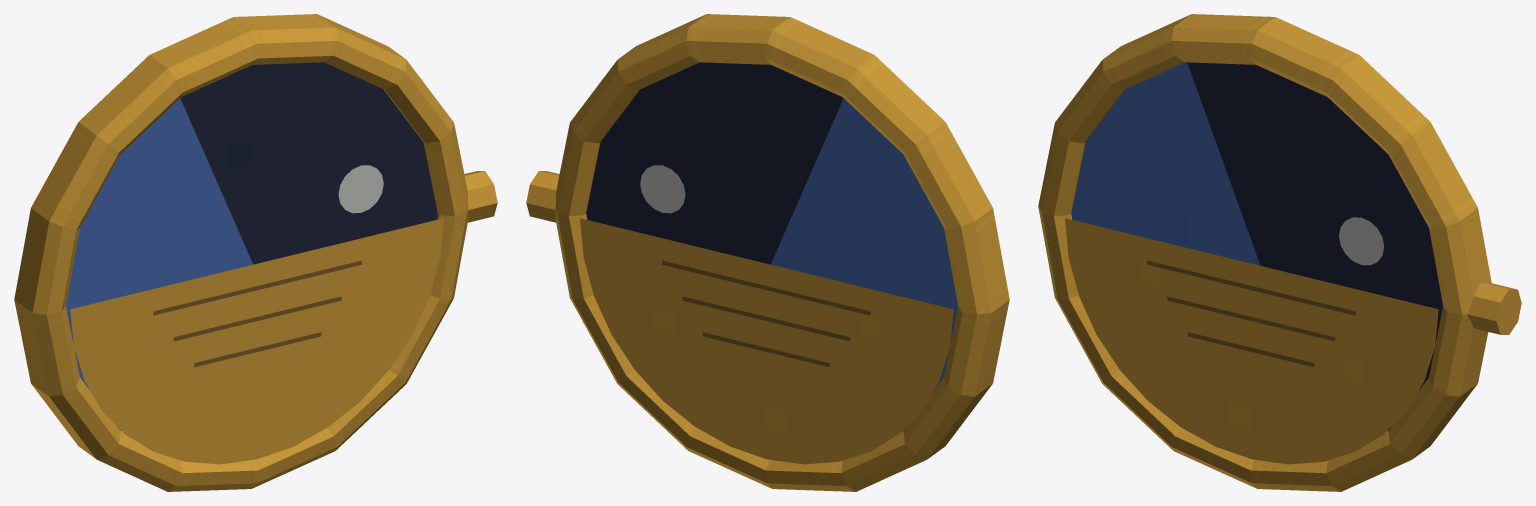
Rendered from clock_44.obj.
The picture shows the model from 3 angles, left to right: view 1: azimuth 30°, elevation 25°; view 2: azimuth 150°, elevation 25°; view 3: azimuth 330°, elevation 25°; orthographic projection.
Bounding box in the file's own units: 0.6363 × 0.6037 × 0.075.
